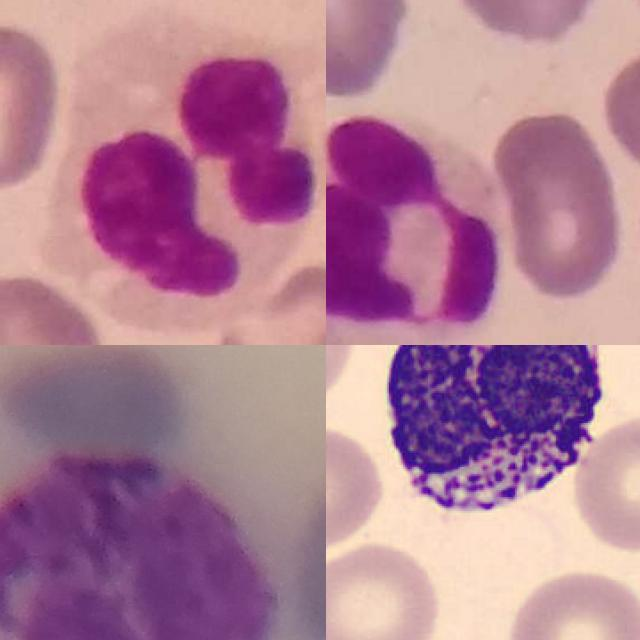Basophil: (0, 449, 284, 640), (367, 345, 618, 536)
Eosinophil: (61, 10, 321, 339)
Neutrophil: (326, 112, 514, 345)
RBC: (326, 539, 443, 640), (501, 564, 640, 640), (568, 410, 640, 555), (326, 421, 385, 553)
